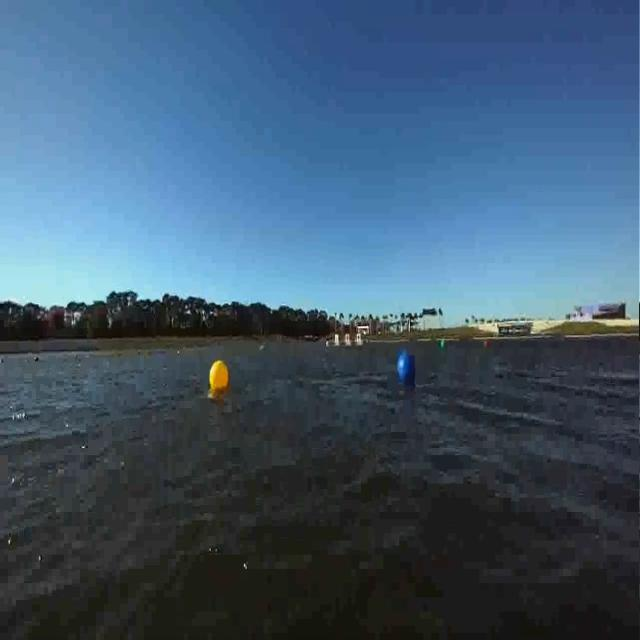blue-buoy: (399, 350, 417, 385)
green-buoy: (438, 341, 445, 351)
yellow-buoy: (210, 360, 230, 393)
